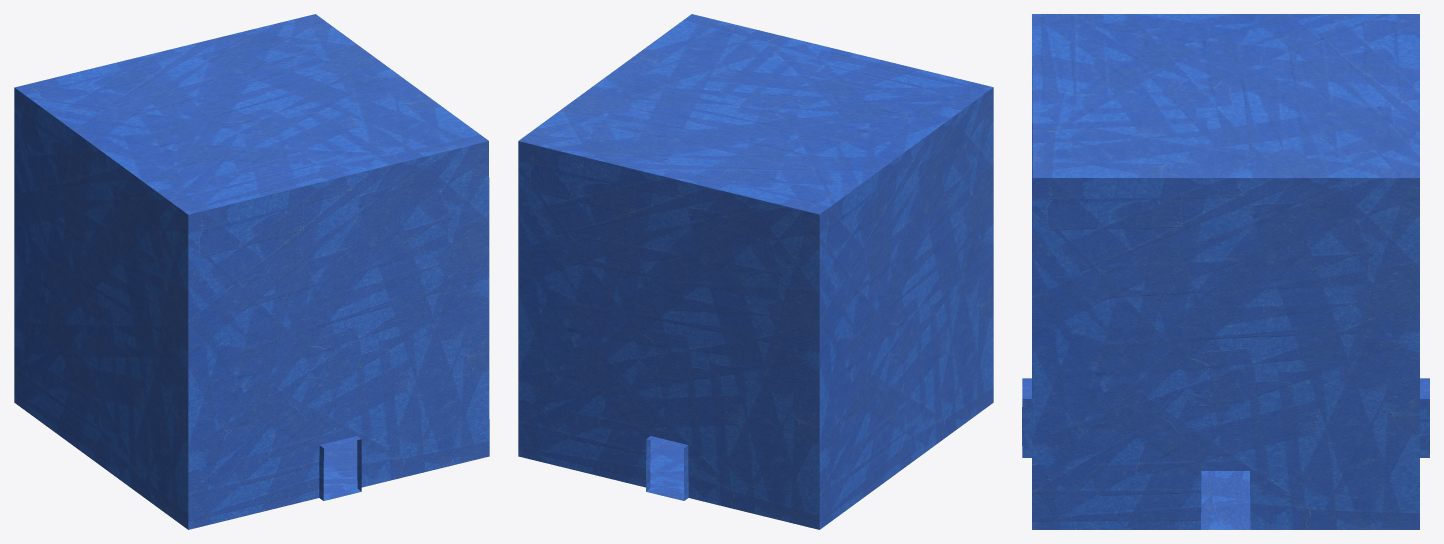
File: Blue_Rm.fbx
The picture shows the model from 3 angles, left to right: view 1: azimuth 30°, elevation 25°; view 2: azimuth 150°, elevation 25°; view 3: azimuth 270°, elevation 25°; orthographic projection. The views are drawn at different scales.
Parts seen in each view (by area): view 1: P_Blue_Rm; view 2: P_Blue_Rm; view 3: P_Blue_Rm.
Part boxes in pixels (<box>): P_Blue_Rm: <box>14,14,489,529</box>; P_Blue_Rm: <box>518,14,993,529</box>; P_Blue_Rm: <box>1022,14,1429,529</box>.
Size of the model in its own units: 27.82 by 27.81 by 29.21.
